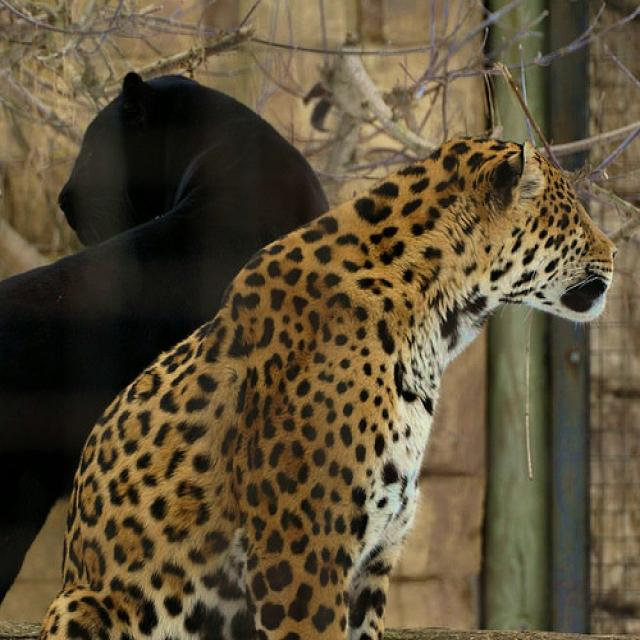Leopard: (35, 130, 620, 636)
